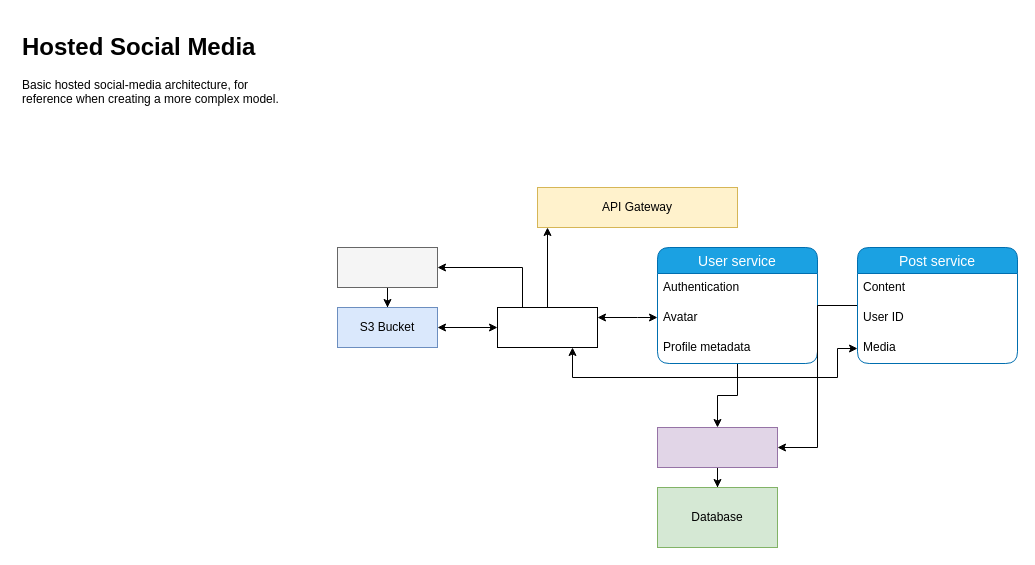
Image size: 1035x565. Some labels were removed from this diagram. Each missing label, with the centre of its shape:
"DB Cache" goes at (x=717, y=447).
"Media Processor" goes at (x=387, y=267).
"Media service" goes at (x=547, y=327).
